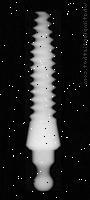OCO Biomedical: (17, 9, 64, 192)
